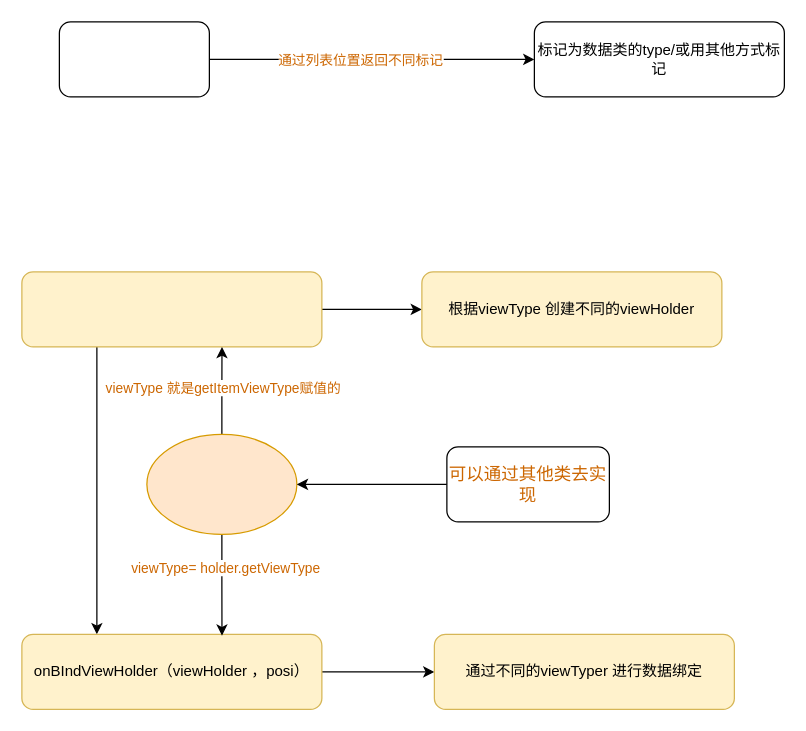
Image size: 806x731. Some labels were removed from this diagram. The box of each missing label's shape, as (x1, y1, x2, y2) in pixels:
getItemViewType: (146, 433, 297, 534)
getItemViewType（position）: (58, 21, 209, 97)
onCreateViewHolder（ ViewGroup parent , int viewType ）: (21, 271, 322, 347)
